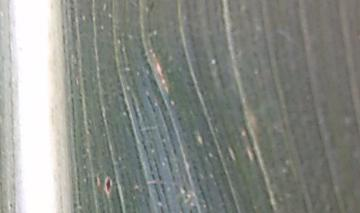tarspot: (102, 174, 112, 193), (8, 201, 14, 210)
